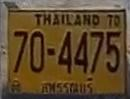0: (29, 31, 44, 72)
4: (57, 30, 71, 72), (74, 32, 88, 72)
5: (105, 31, 120, 72)
7: (13, 30, 27, 72), (90, 30, 104, 72)
SPB: (41, 76, 97, 97)
